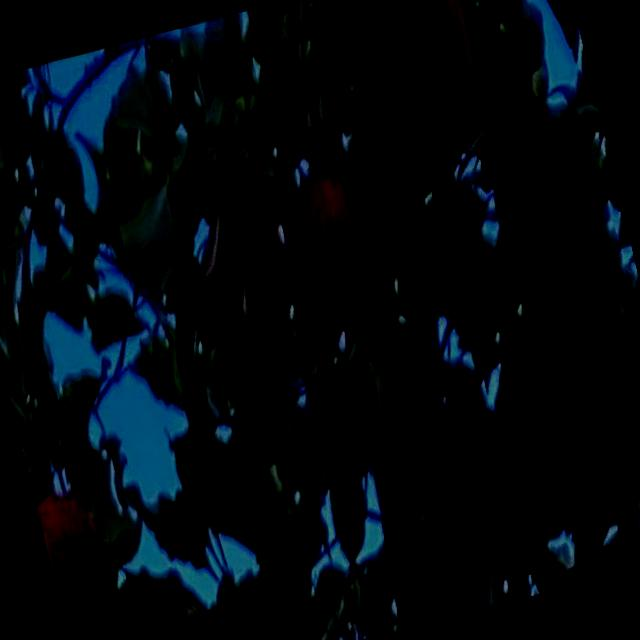Apple: (274, 164, 390, 338), (191, 197, 306, 363), (362, 0, 489, 150), (34, 481, 118, 635), (508, 349, 586, 456), (345, 0, 449, 50)
